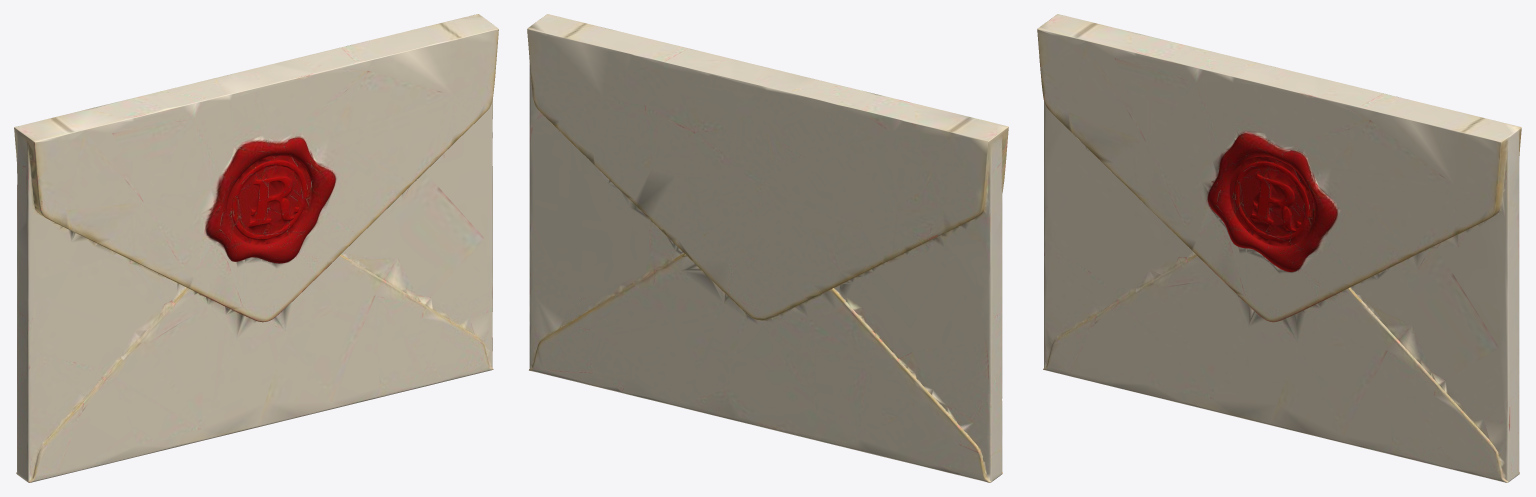
File: letter.glb
3 renders of one model, left to right at view 1: azimuth 30°, elevation 25°; view 2: azimuth 150°, elevation 25°; view 3: azimuth 330°, elevation 25°, orthographic.
Size of the model in its own units: 1.9 by 1.35 by 0.1731.
1 material, 1 textured.
